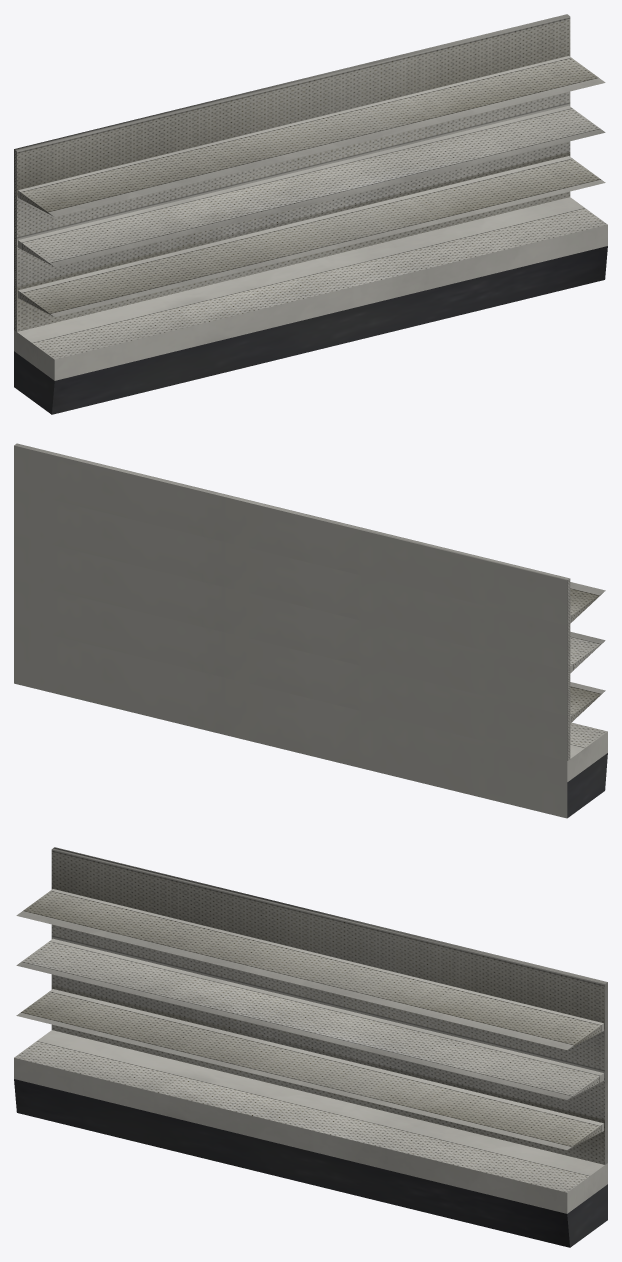
File: Half_Shelf.fbx
The picture shows the model from 3 angles, top to bottom: view 1: azimuth 30°, elevation 25°; view 2: azimuth 150°, elevation 25°; view 3: azimuth 330°, elevation 25°; orthographic projection.
Visible parts, largest first — view 1: Half_Shelf; view 2: Half_Shelf; view 3: Half_Shelf.
Part boxes in pixels (x1,y1,x2,y2): Half_Shelf: (14,14,607,414); Half_Shelf: (14,443,607,818); Half_Shelf: (14,847,607,1247).
Bounding box in the file's own units: 4.66 × 1.92 × 0.5946.
